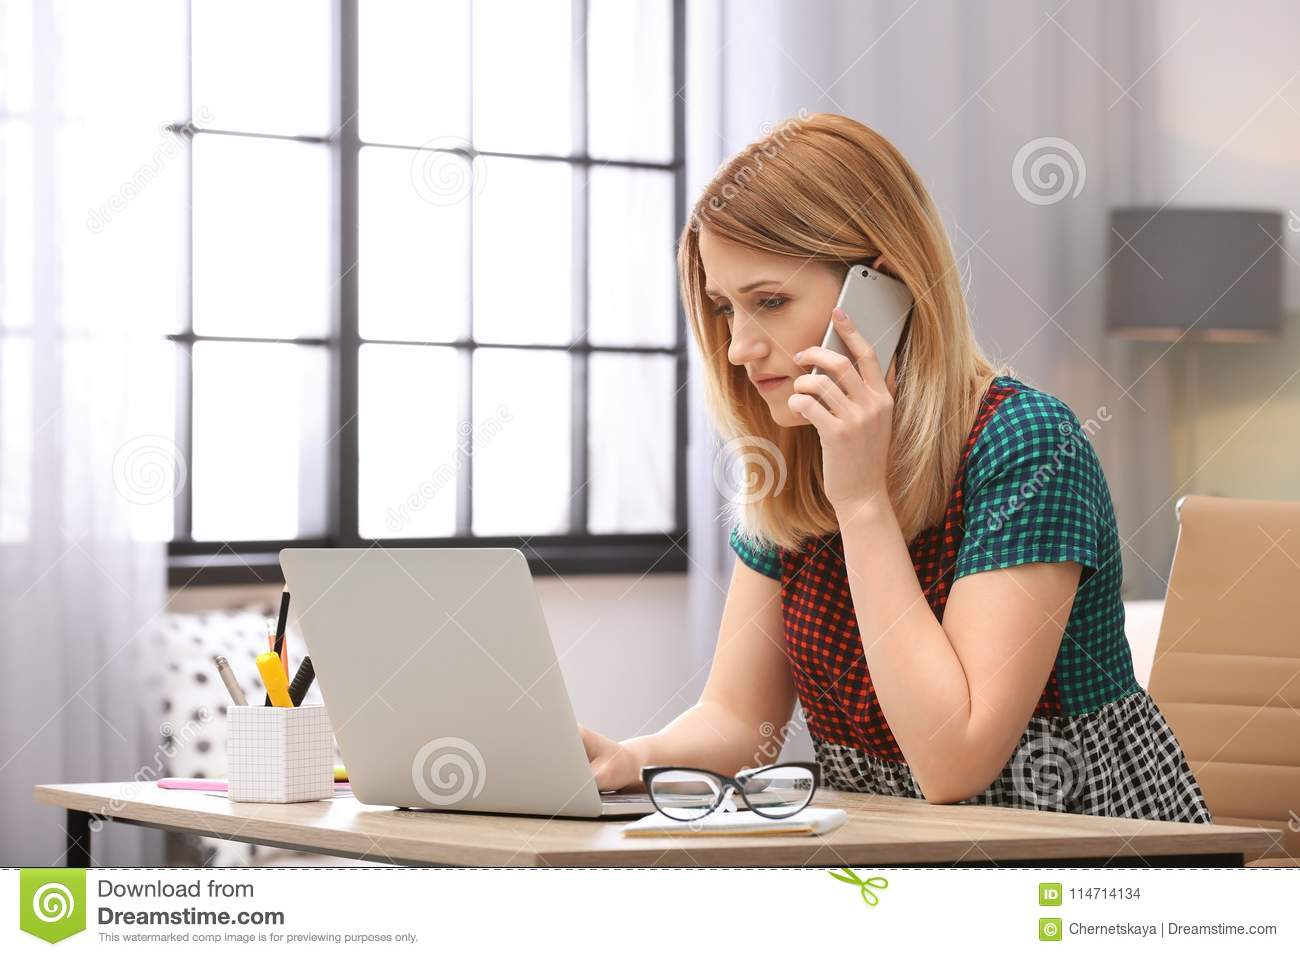phone: (797, 262, 914, 424)
talk: (701, 263, 918, 528)
